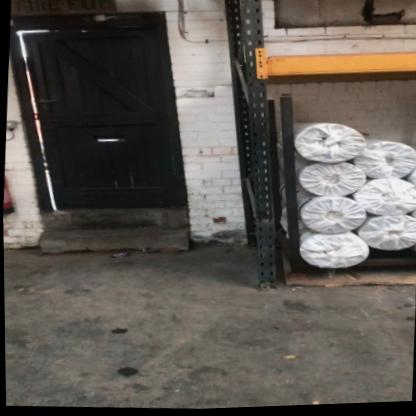vertical_damage: (247, 205, 287, 246)
